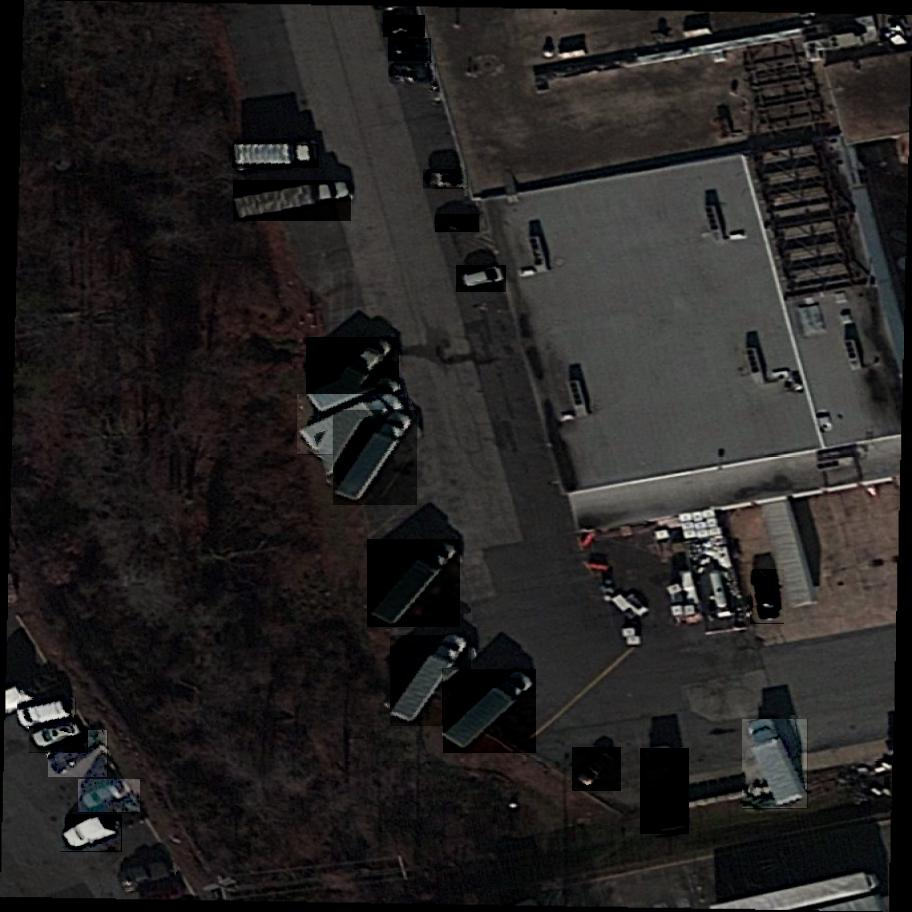large-vehicle: (306, 331, 399, 436), (367, 536, 461, 636), (333, 405, 420, 511), (443, 665, 537, 754), (390, 630, 471, 732), (298, 392, 409, 459), (743, 716, 809, 811), (234, 181, 352, 222), (641, 745, 690, 838), (61, 812, 122, 856), (233, 145, 320, 169)
small-vehicle: (49, 728, 109, 779), (572, 744, 621, 794), (79, 778, 140, 815), (30, 718, 89, 755), (116, 858, 175, 891), (751, 568, 784, 626), (18, 698, 76, 728), (456, 263, 506, 293), (388, 63, 436, 87), (386, 38, 433, 61), (384, 16, 425, 39), (422, 169, 469, 189), (435, 214, 479, 232)
